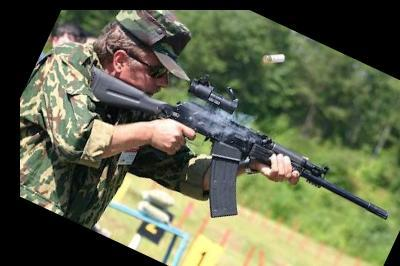larga: (89, 66, 389, 221)
